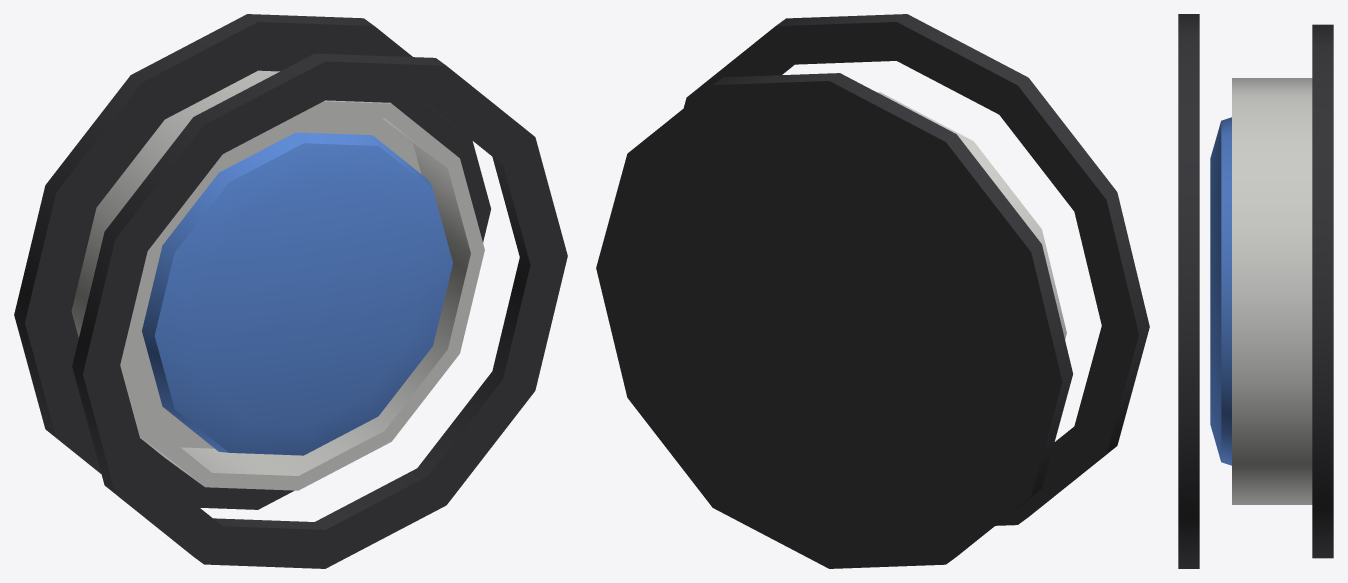
The model's file is clutch_lod1.glb.
The picture shows the model from 3 angles, left to right: view 1: azimuth 30°, elevation 25°; view 2: azimuth 150°, elevation 25°; view 3: azimuth 270°, elevation 25°; orthographic projection.
Parts seen in each view (by area): view 1: clutch_lod1; view 2: clutch_lod1; view 3: clutch_lod1.
Part boxes in pixels (box(x1,y1,x2,y2)): clutch_lod1: box(14, 14, 567, 568); clutch_lod1: box(596, 14, 1149, 568); clutch_lod1: box(1178, 14, 1333, 568).
Size of the model in its own units: 0.208 by 0.208 by 0.058.
